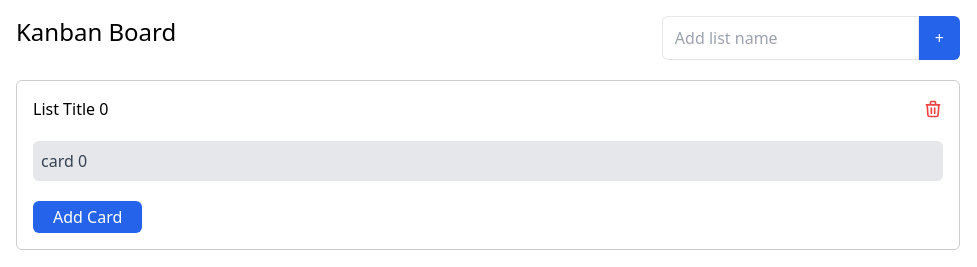
Scenario: input list name › should delete list item
Click the 2nd button: (933, 109) [923,97,943,121]
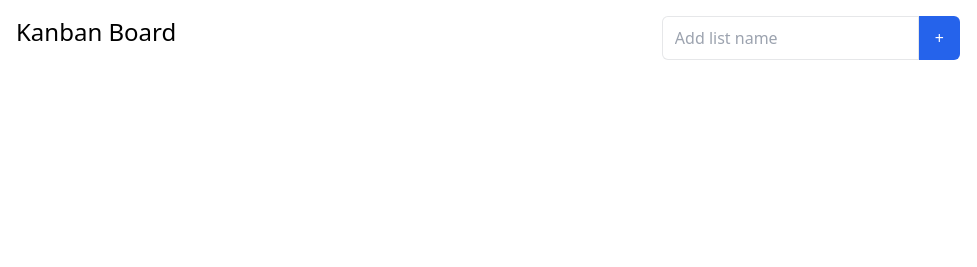
Expected: the heading "List Title 0" is gone
